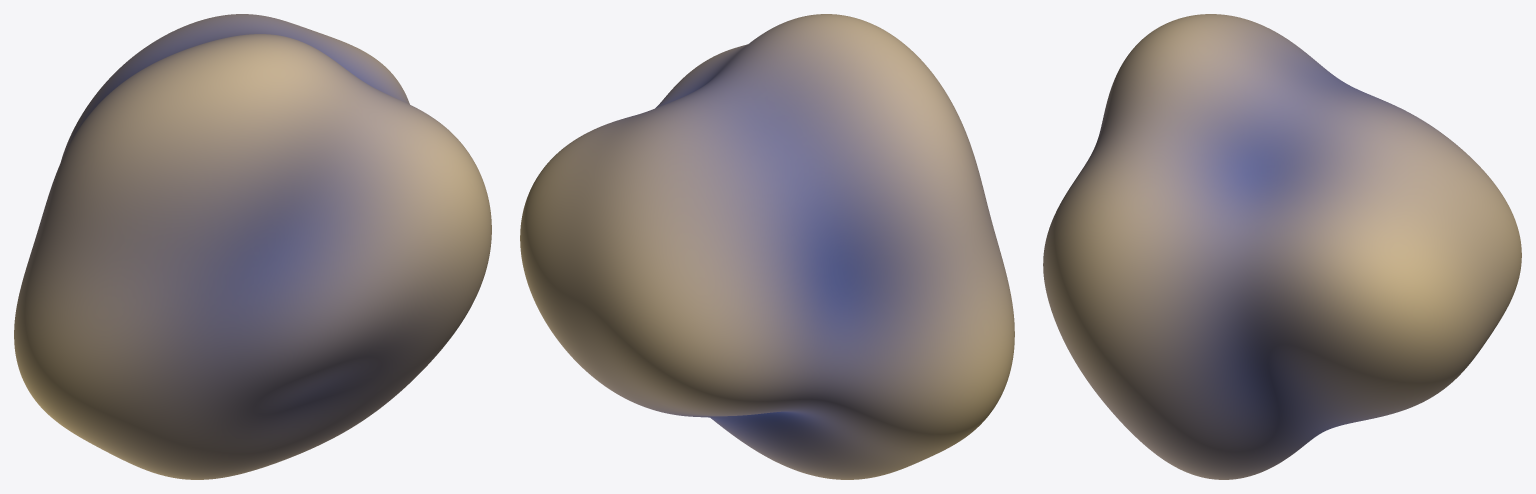
Rendered from sculpture.glb.
3 views of the same model, side by side, from view 1: azimuth 30°, elevation 25°; view 2: azimuth 150°, elevation 25°; view 3: azimuth 270°, elevation 25° (orthographic). The views are drawn at different scales.
Visible parts, largest first — view 1: world; view 2: world; view 3: world.
Part boxes in pixels (left/top/right/bottom): world: left=14, top=14, right=491, bottom=479; world: left=520, top=14, right=1014, bottom=479; world: left=1043, top=14, right=1521, bottom=479.
Bounding box in the file's own units: 2.18 × 2.15 × 2.14.
